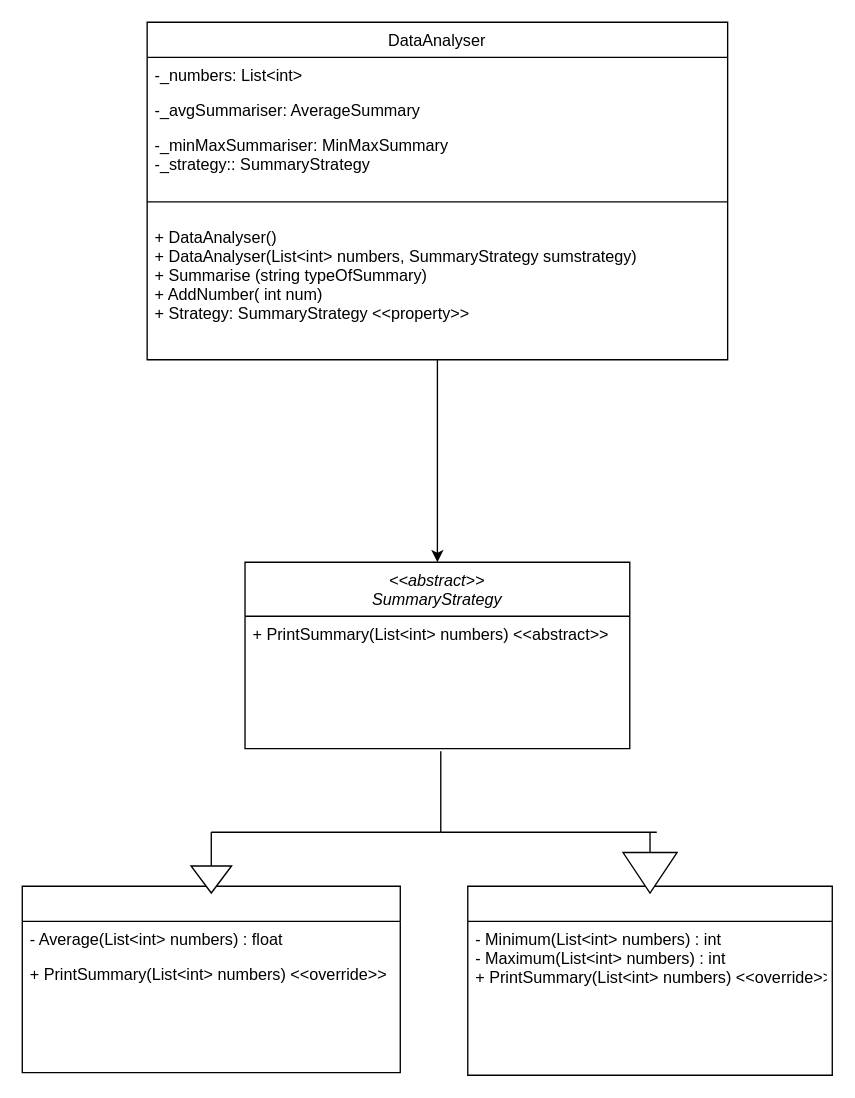
This 855x1098 diagram has some shape labels left out. Each missing label, with the box of its shape:
AverageSummary: (21, 885, 400, 1073)
MinMaxSummary: (466, 885, 832, 1075)
